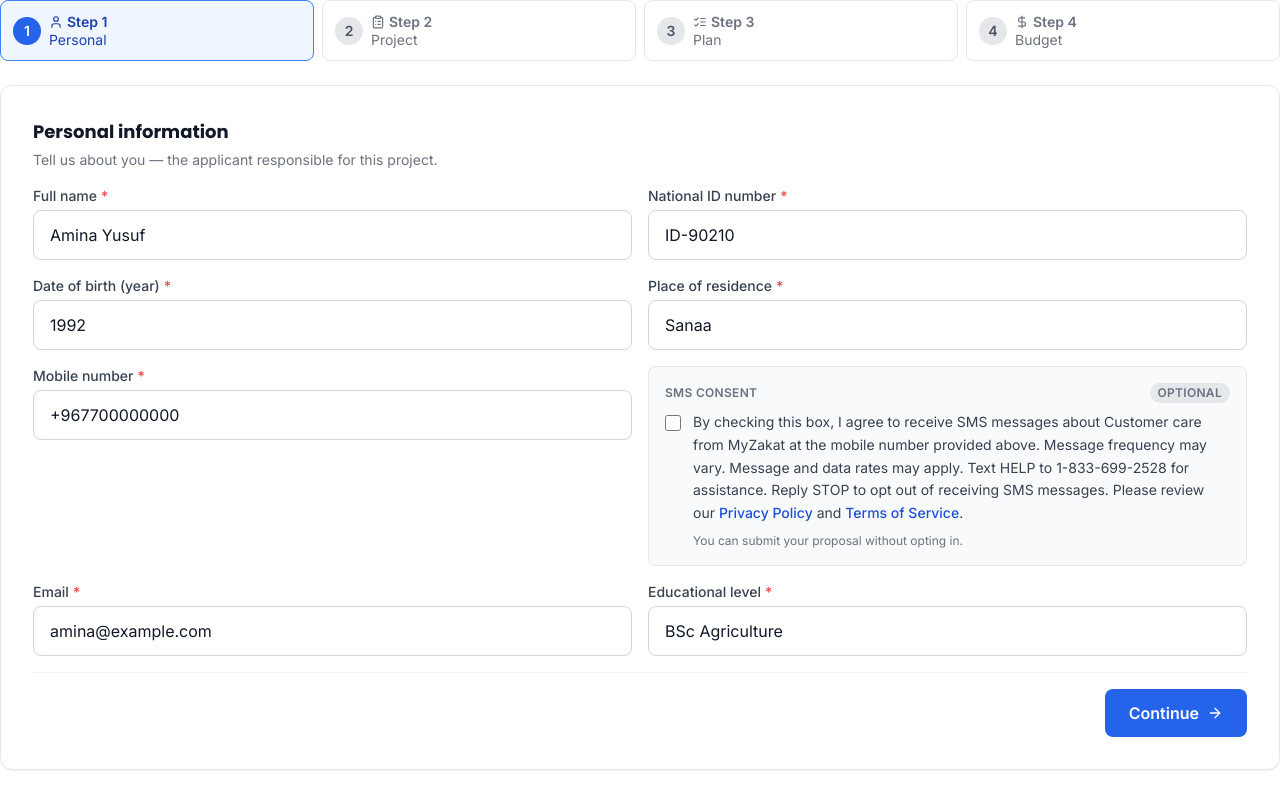
Test: ProposalForm › advances to step 2 once every step-1 field is filled
This screenshot has width=1280, height=800.
Click the button "Continue". click: (1176, 713)
box: top-left (1105, 689), bottom-right (1247, 737)
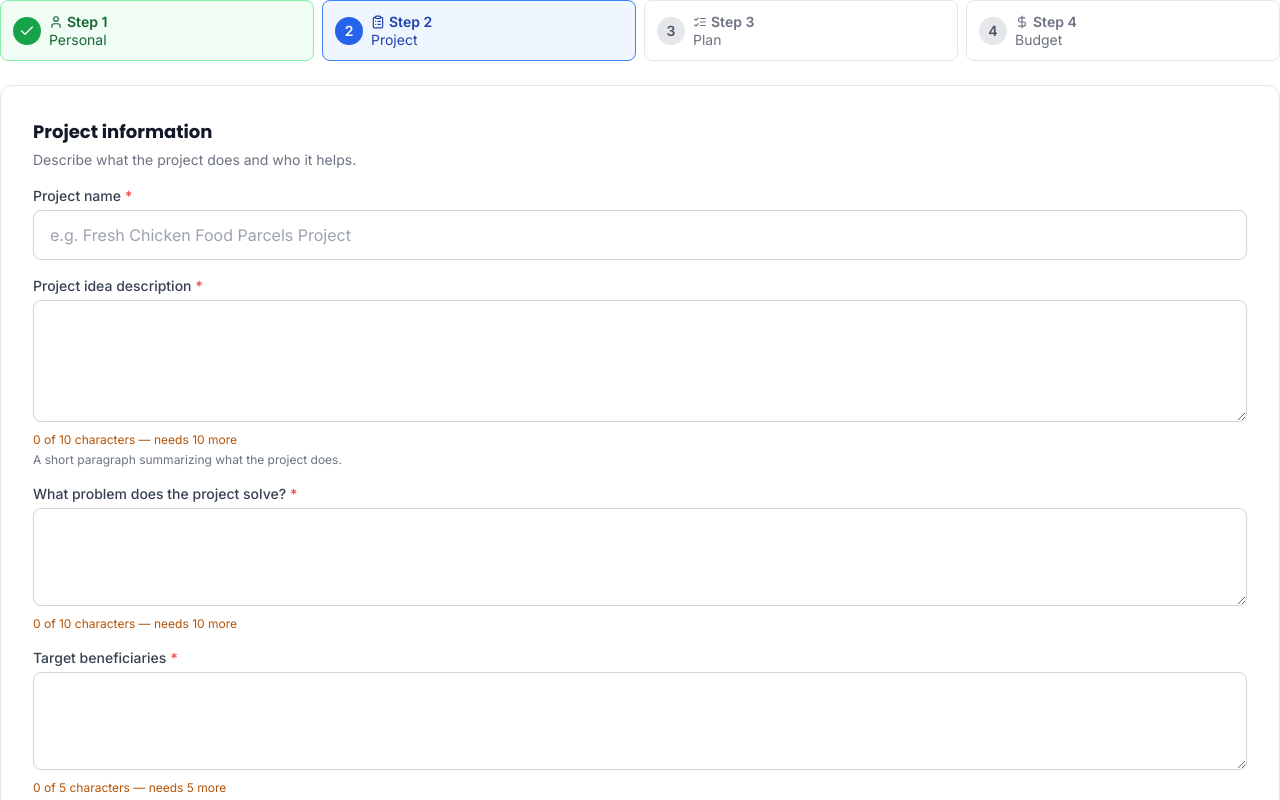
Now the heading "Project information" is shown, box top-left (33, 119), bottom-right (212, 144)
